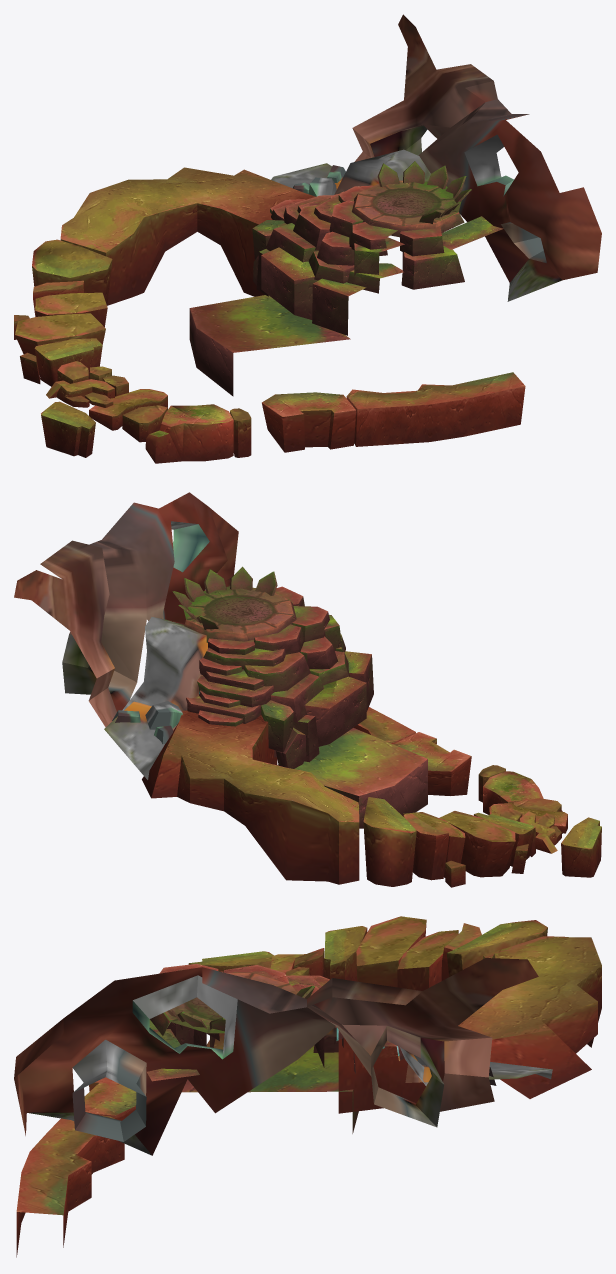
Rendered from lianhuatai.FBX.
3 views of the same model, one above another, from view 1: azimuth 30°, elevation 25°; view 2: azimuth 150°, elevation 25°; view 3: azimuth 270°, elevation 25° (orthographic). The views are drawn at different scales.
Parts seen in each view (by area): view 1: lianhuatai1, Object02, lianhuatai2, lianhuatai3; view 2: lianhuatai1, Object02, lianhuatai2, lianhuatai3; view 3: Object02, lianhuatai1, lianhuatai2, lianhuatai3.
Part boxes in pixels (x1=…): lianhuatai1: x1=14, y1=167, x2=525, y2=463; Object02: x1=271, y1=14, x2=601, y2=301; lianhuatai2: x1=189, y1=185, x2=503, y2=396; lianhuatai3: x1=352, y1=161, x2=471, y2=237; lianhuatai1: x1=142, y1=707, x2=601, y2=887; Object02: x1=14, y1=492, x2=238, y2=779; lianhuatai2: x1=186, y1=586, x2=427, y2=828; lianhuatai3: x1=172, y1=566, x2=296, y2=642; Object02: x1=14, y1=958, x2=552, y2=1155; lianhuatai1: x1=16, y1=916, x2=601, y2=1257; lianhuatai2: x1=147, y1=963, x2=404, y2=1133; lianhuatai3: x1=150, y1=973, x2=315, y2=1035.
Bounding box in the file's own units: 2900 × 2257 × 1469.
